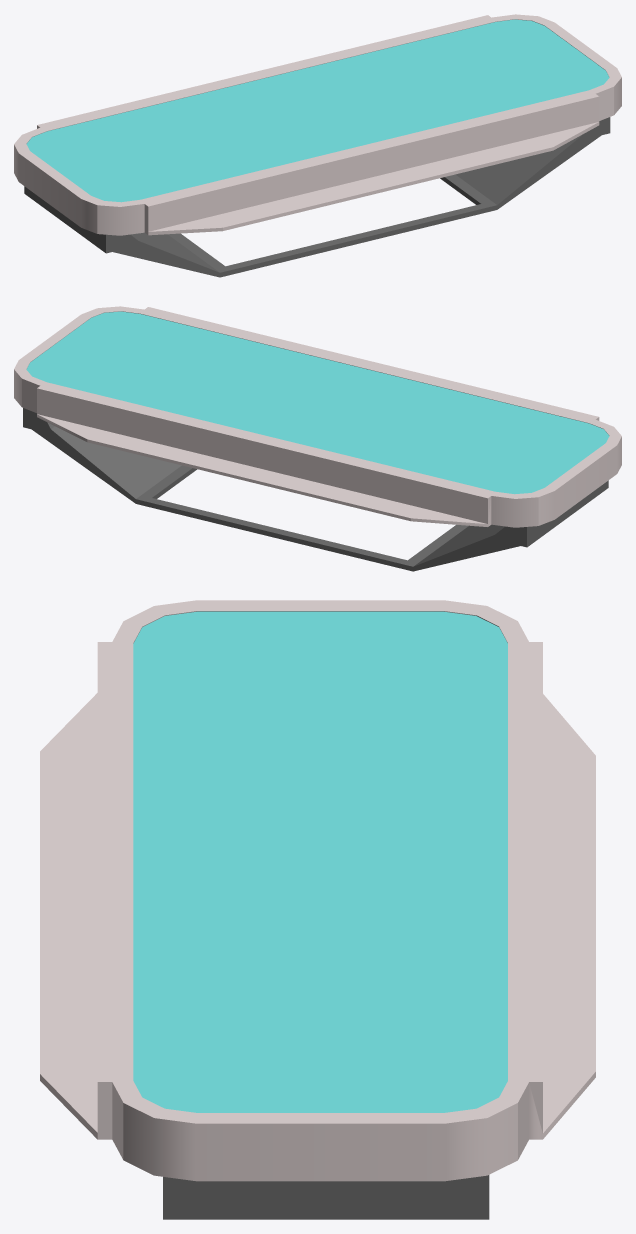
The model's file is Table.fbx.
3 views of the same model, one above another, from view 1: azimuth 30°, elevation 25°; view 2: azimuth 150°, elevation 25°; view 3: azimuth 270°, elevation 25° (orthographic). The views are drawn at different scales.
Visible parts, largest first — view 1: Table; view 2: Table; view 3: Table.
Part boxes in pixels (x1,y1,x2,y2): Table: [14, 14, 621, 277]; Table: [14, 306, 621, 571]; Table: [40, 600, 595, 1219].
Size of the model in its own units: 5.01 by 0.9327 by 2.25.
